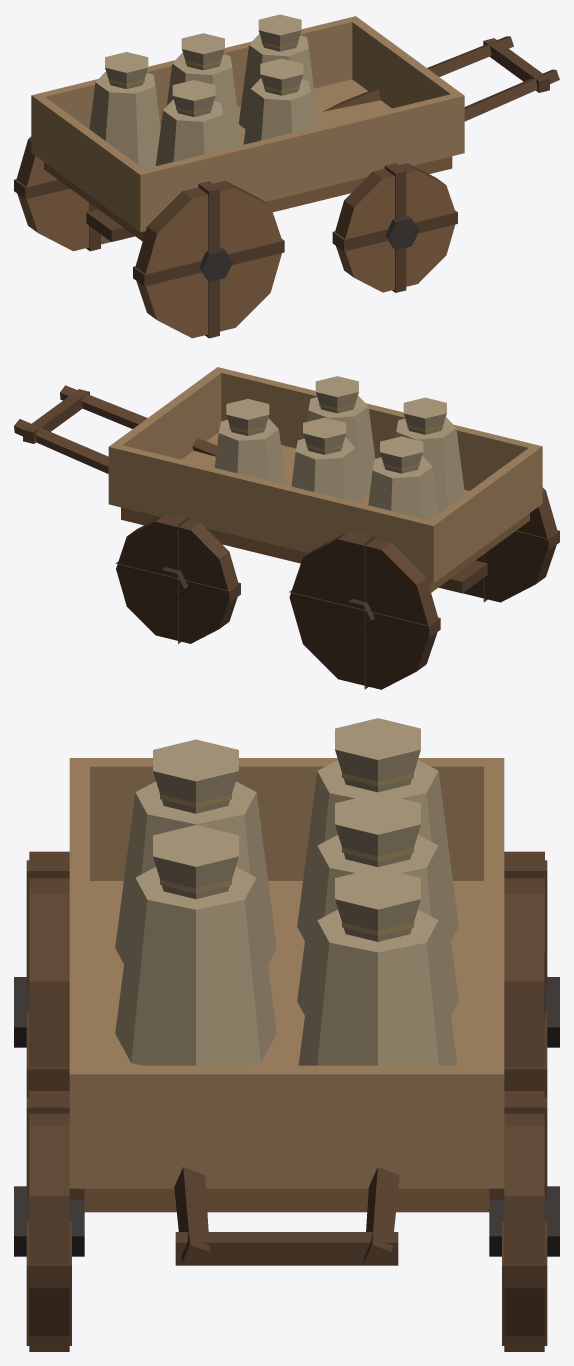
File: cart_farm.glb
3 renders of one model, top to bottom at view 1: azimuth 30°, elevation 25°; view 2: azimuth 150°, elevation 25°; view 3: azimuth 270°, elevation 25°, orthographic. The views are drawn at different scales.
Parts seen in each view (by area): view 1: cart_farm; view 2: cart_farm; view 3: cart_farm.
Boxes of the visible parts, x1,y1,x2,y2 form: cart_farm: (14,14,559,338); cart_farm: (14,367,559,689); cart_farm: (14,718,559,1351).
Size of the model in its own units: 2.07 by 0.9164 by 1.08.
